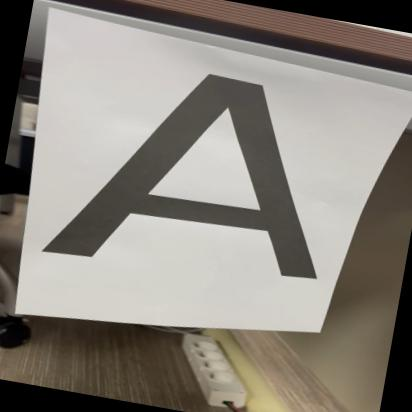seat: (22, 39, 362, 312)
